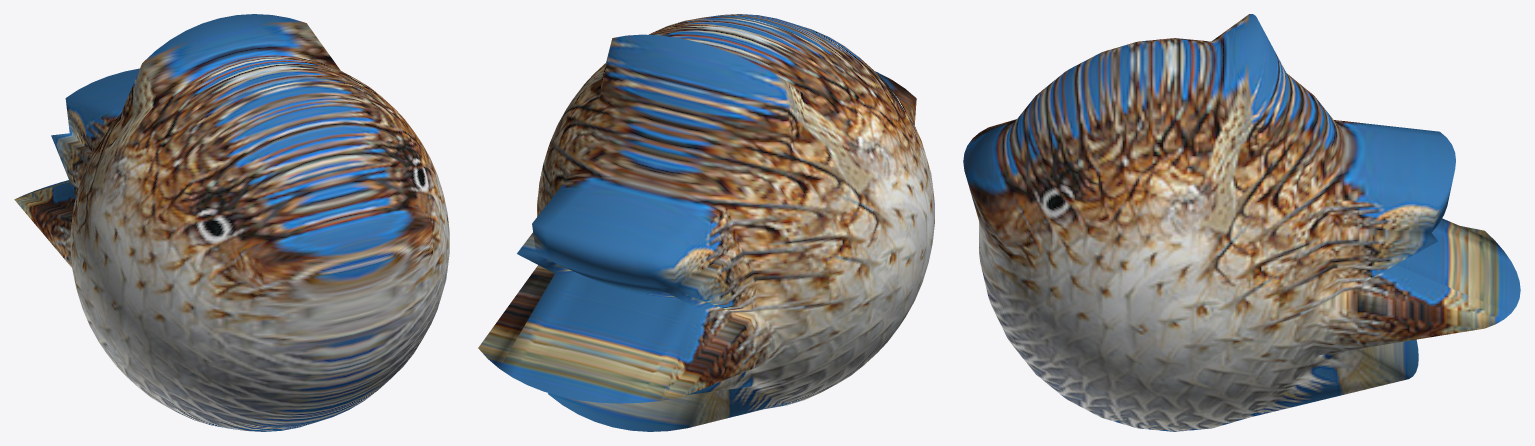
The model's file is ExportedFBXFile.fbx.
3 renders of one model, left to right at view 1: azimuth 30°, elevation 25°; view 2: azimuth 150°, elevation 25°; view 3: azimuth 270°, elevation 25°, orthographic. The views are drawn at different scales.
Parts seen in each view (by area): view 1: pSphere1; view 2: pSphere1; view 3: pSphere1.
Boxes of the visible parts, <box> form: pSphere1: <box>14,14,449,431</box>; pSphere1: <box>478,14,934,431</box>; pSphere1: <box>963,14,1520,431</box>.
Bounding box in the file's own units: 16.02 × 17.04 × 22.66.
